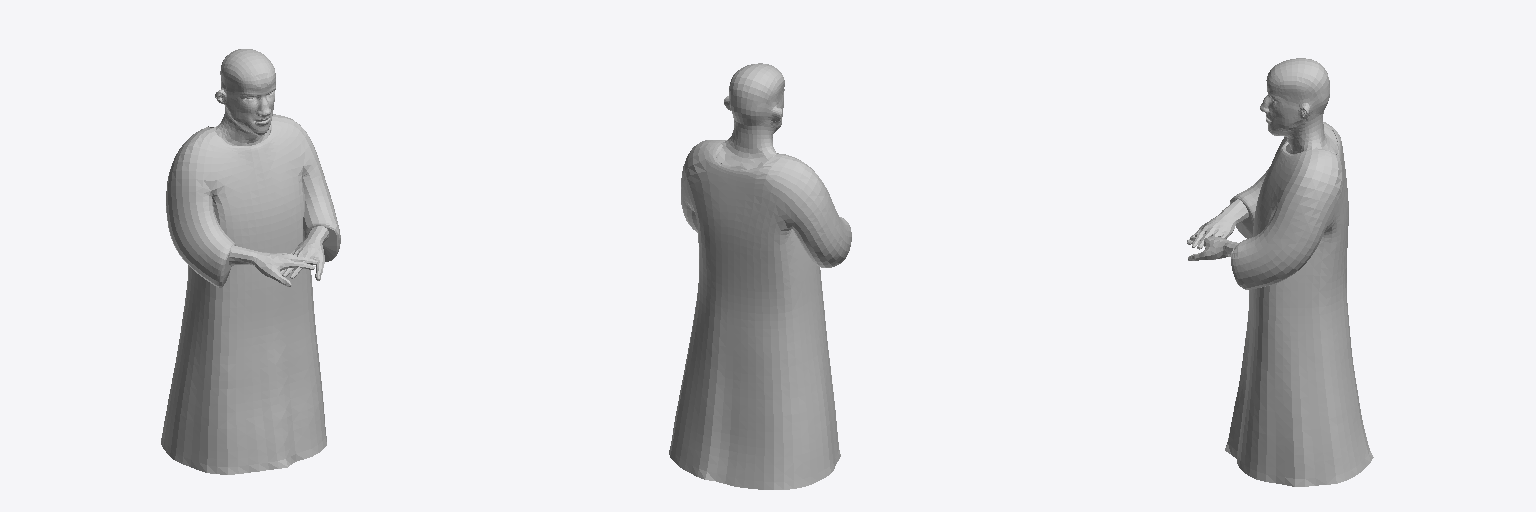
Rendered from Balla_Rescale.obj.
The picture shows the model from 3 angles: view 1: azimuth 30°, elevation 25°; view 2: azimuth 150°, elevation 25°; view 3: azimuth 270°, elevation 25°; orthographic projection.
Visible parts, largest first — view 1: Balla:Balla27792; view 2: Balla:Balla27792; view 3: Balla:Balla27792.
Part boxes in pixels (bbox=[...]): Balla:Balla27792: bbox=[161, 49, 340, 474]; Balla:Balla27792: bbox=[669, 63, 851, 489]; Balla:Balla27792: bbox=[1187, 58, 1373, 486].
Bounding box in the file's own units: 0.8968 × 2.19 × 0.9493.